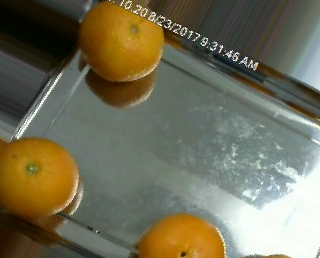Orange: (1, 136, 79, 217)
